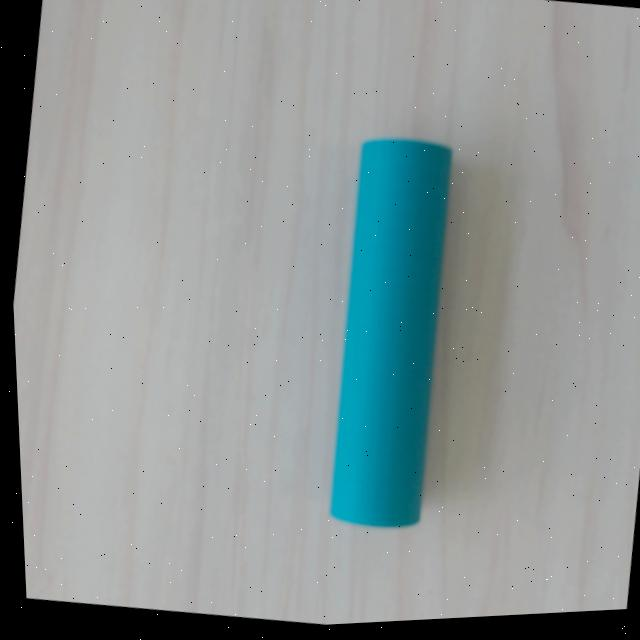Silinder-Hijau-10025: (328, 136, 452, 530)
